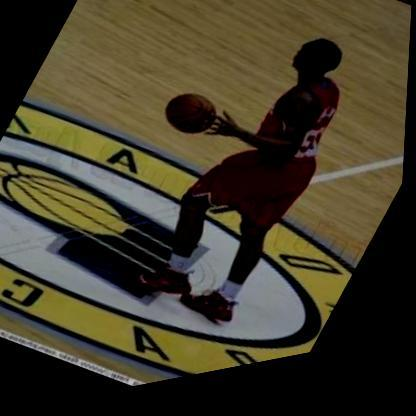basketball: (156, 84, 229, 158)
